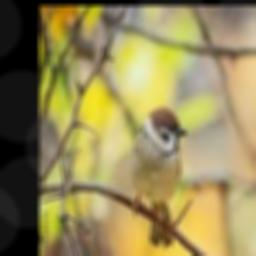Sparrow: (132, 110, 186, 245)
